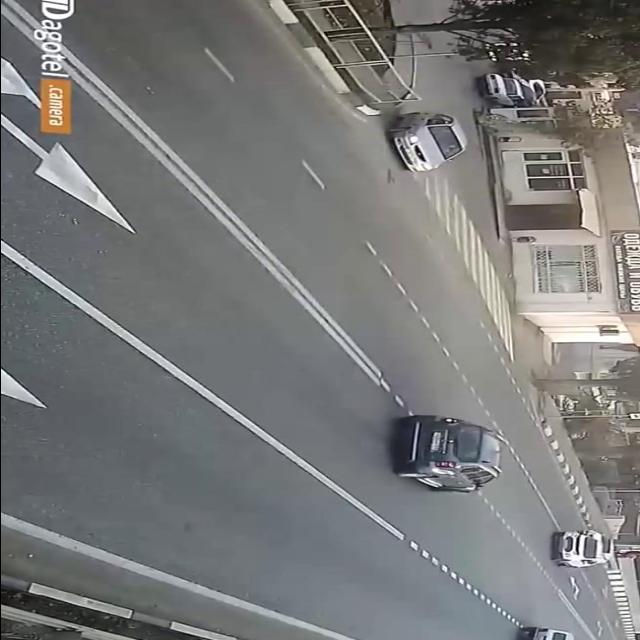non_accident: (546, 523, 622, 571)
